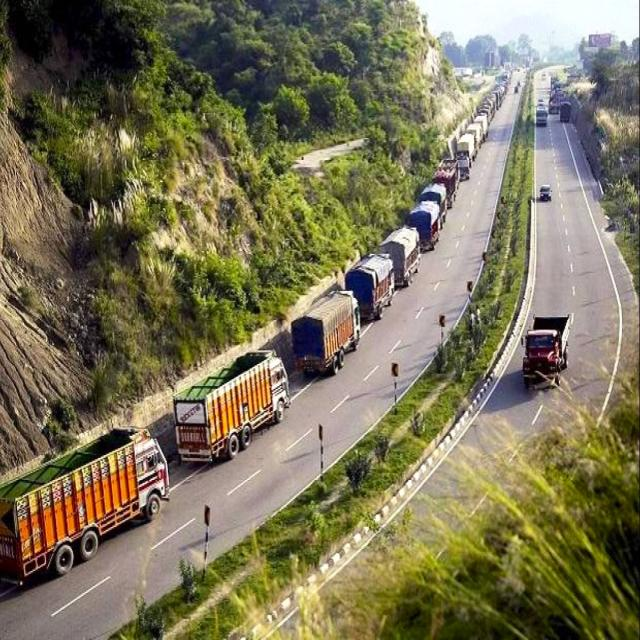Truck: (0, 428, 169, 577), (171, 349, 291, 466), (286, 292, 361, 373), (518, 313, 572, 388)
